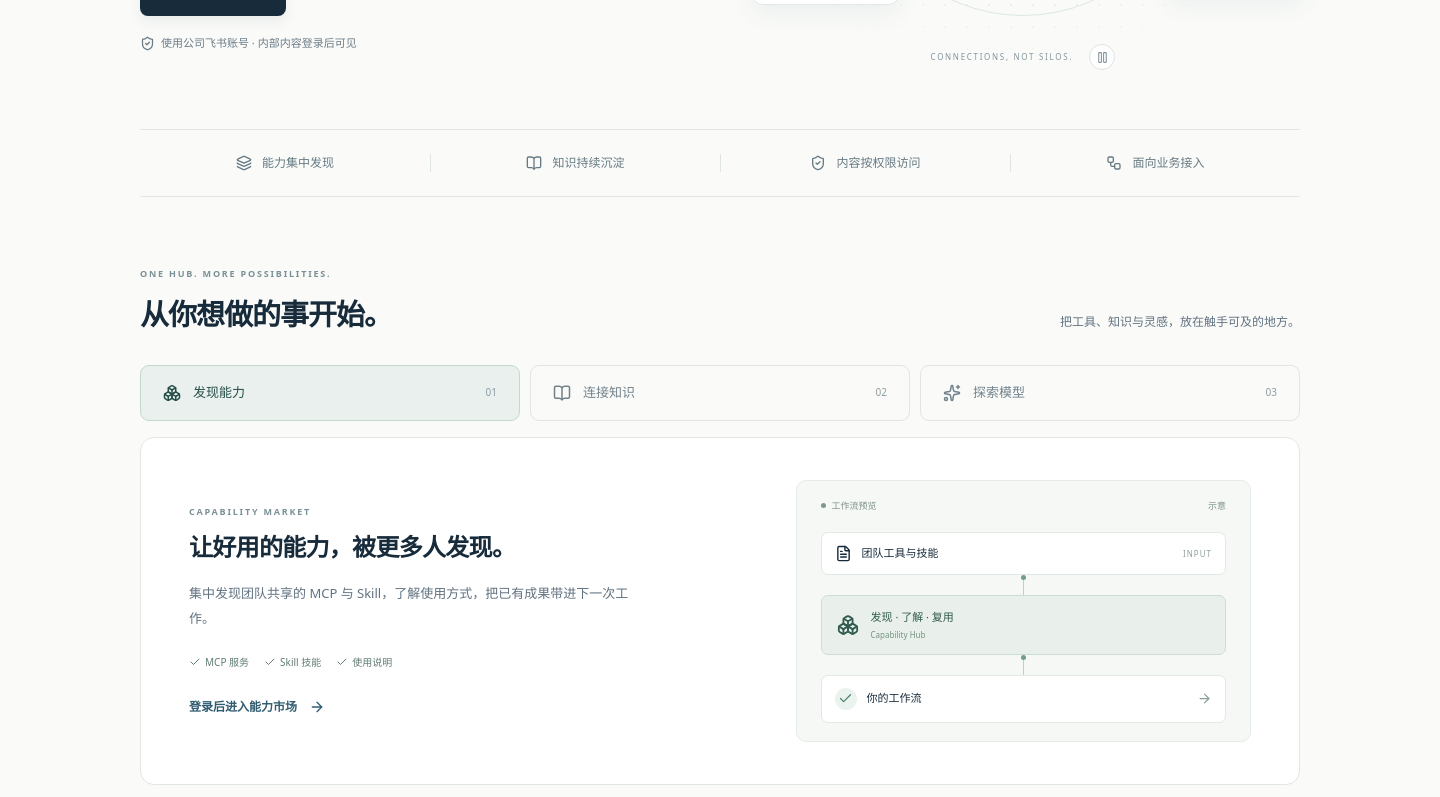
Test: switches the preview and lets visitors pause animation
(page scrolled)
Click the button "连接知识 02" at (609, 392), box [530, 365, 910, 421]
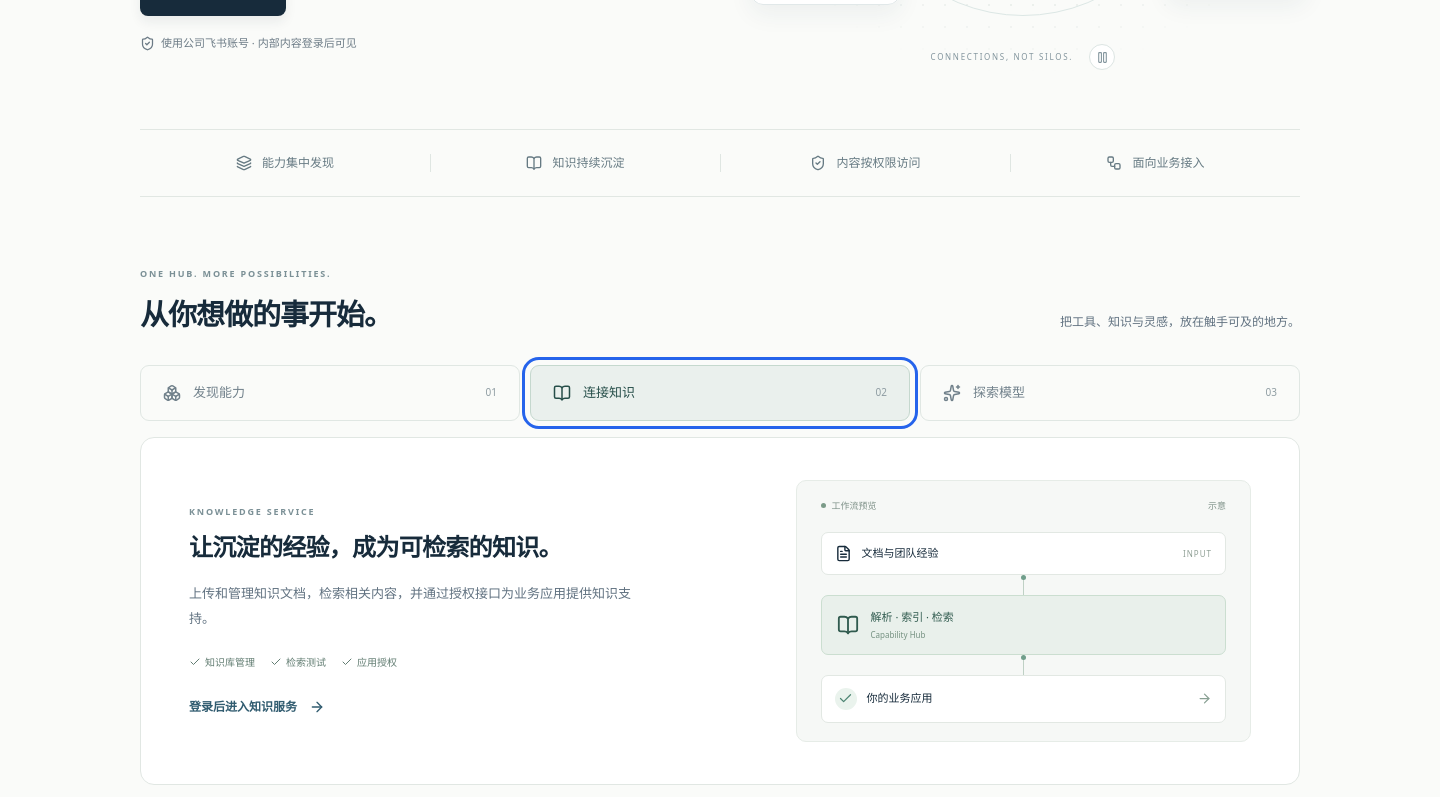
Expected: the heading "让沉淀的经验，成为可检索的知识。" is shown, [189, 530, 562, 563]
Click the button named "暂停装饰动画" at (1102, 57), box [1089, 44, 1115, 70]
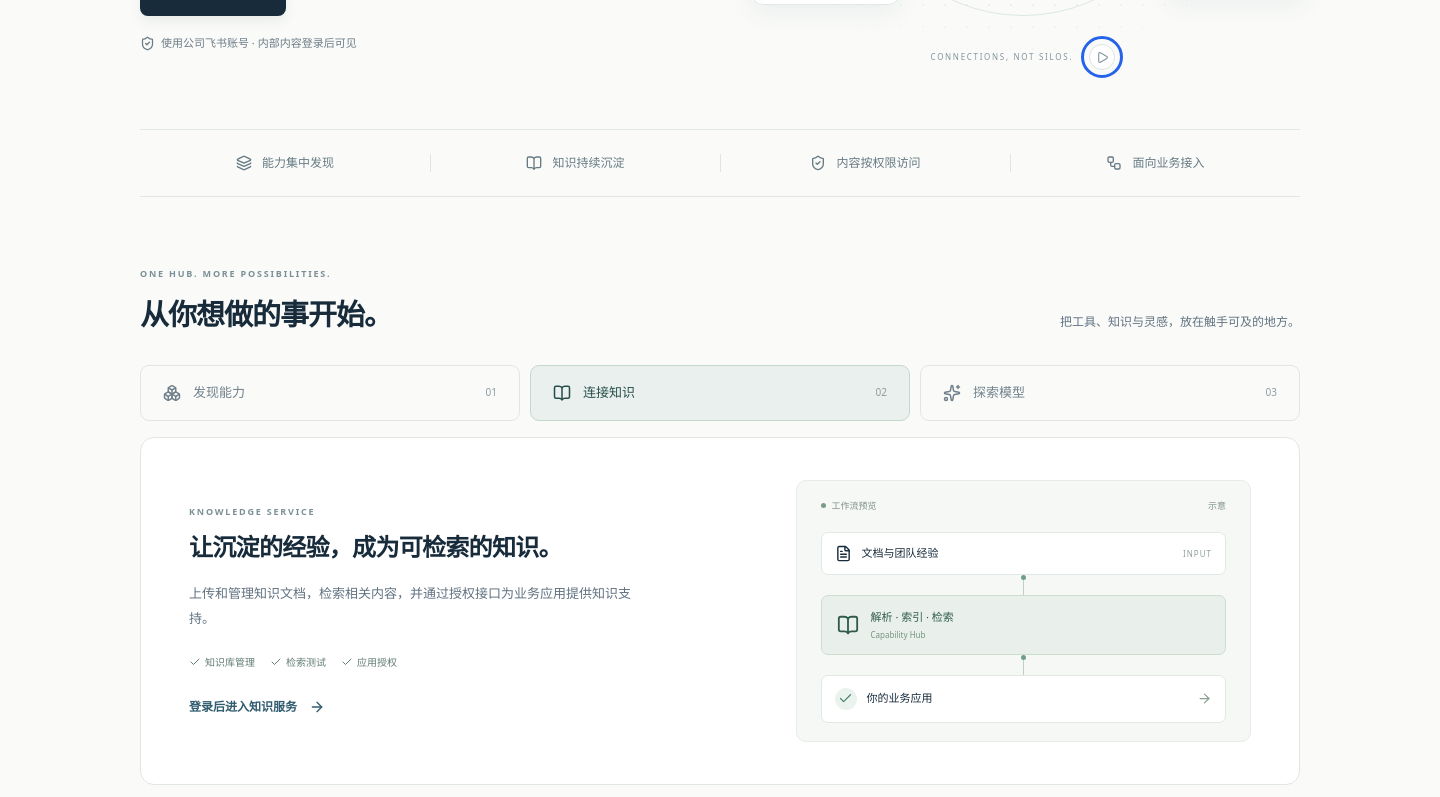
Expected: the button named "播放装饰动画" is shown, [1089, 44, 1115, 70]
